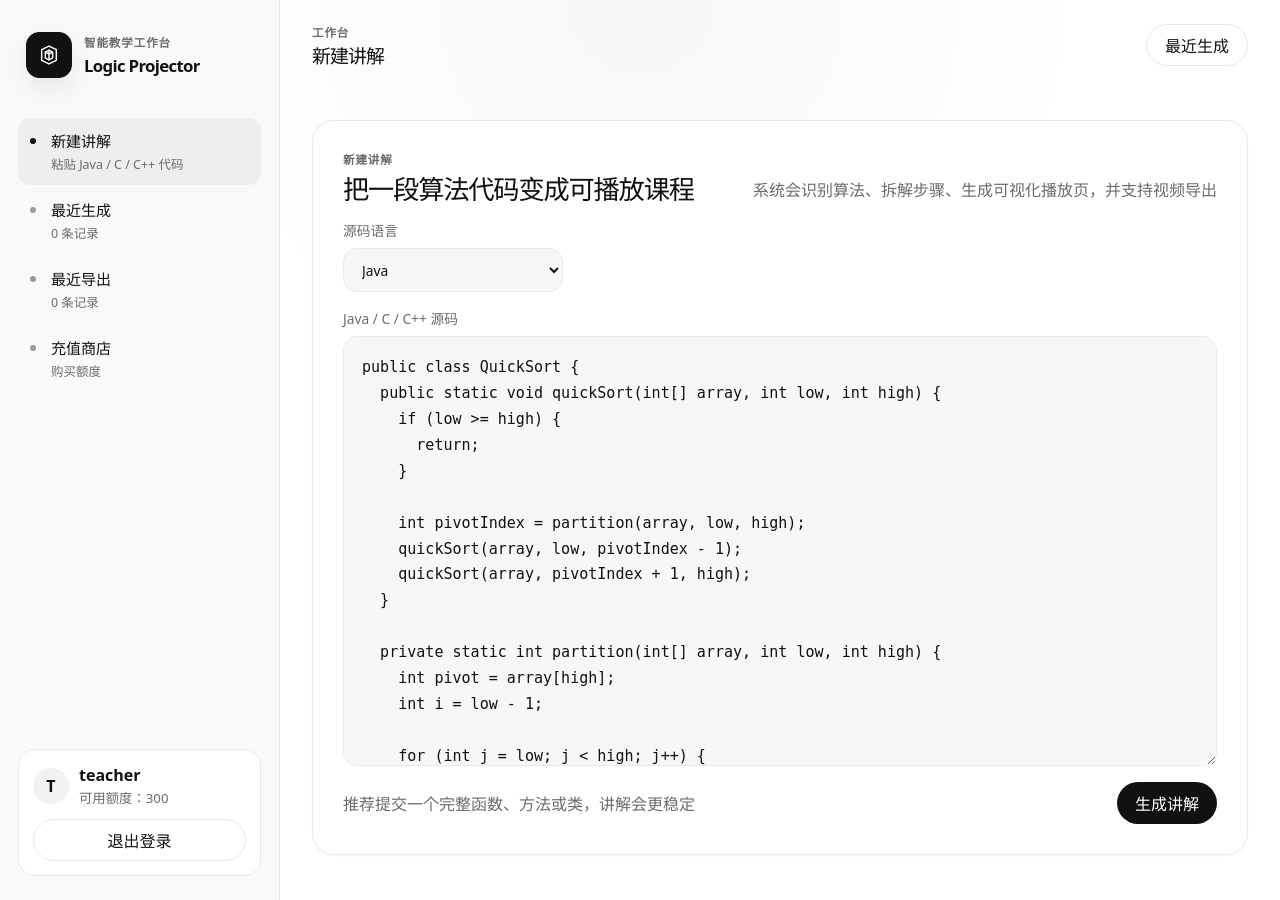
Test: App › does not log out when recharge page hits a non-auth 403 error
Click the button with class "sidebar-nav-item" showing "充值商店 购买额度" at (140,358), box [18,325,261,392]
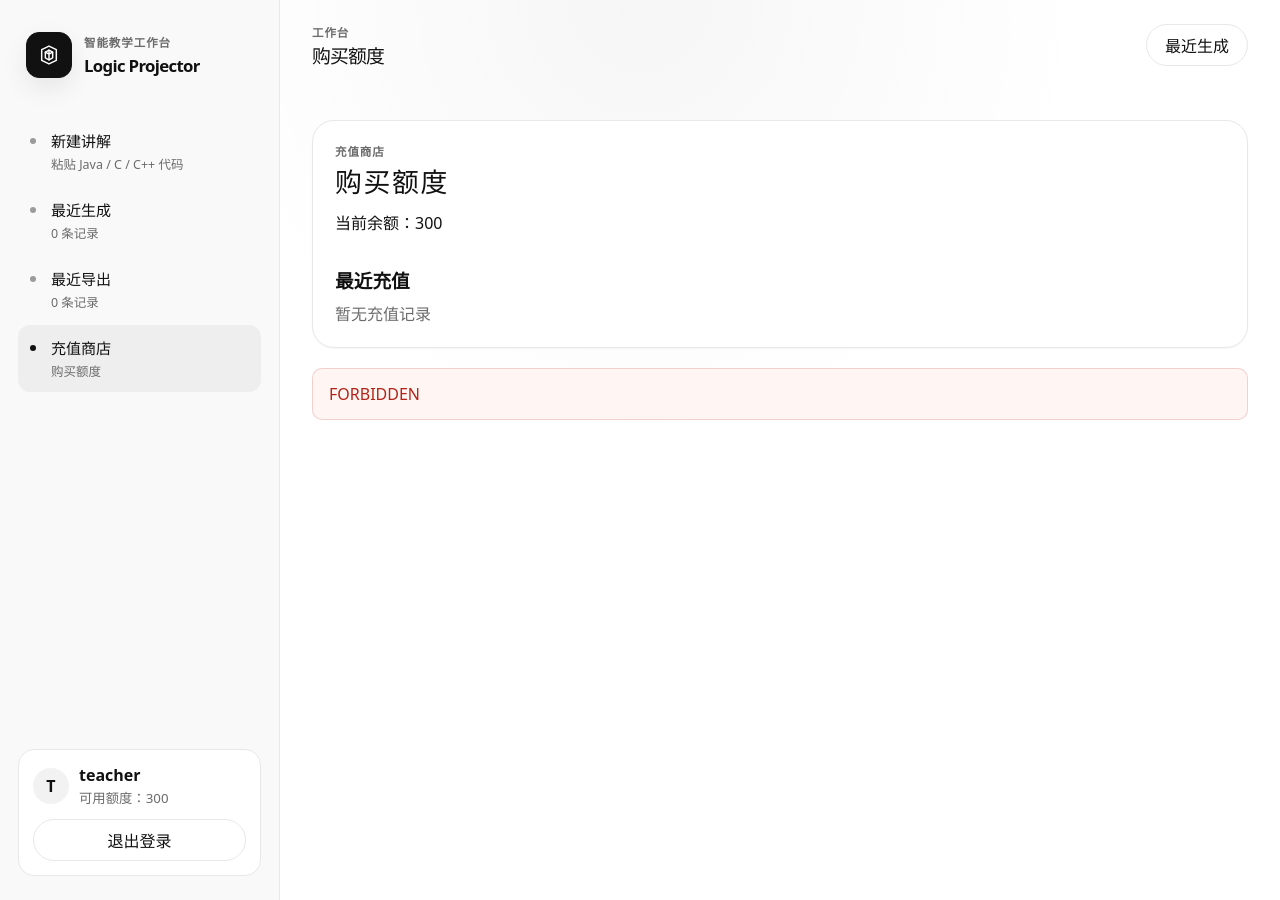
Expected: the text "购买额度" is shown, [51,363,101,380]
Expected: the text "FORBIDDEN" is shown, [312,368,1248,420]
